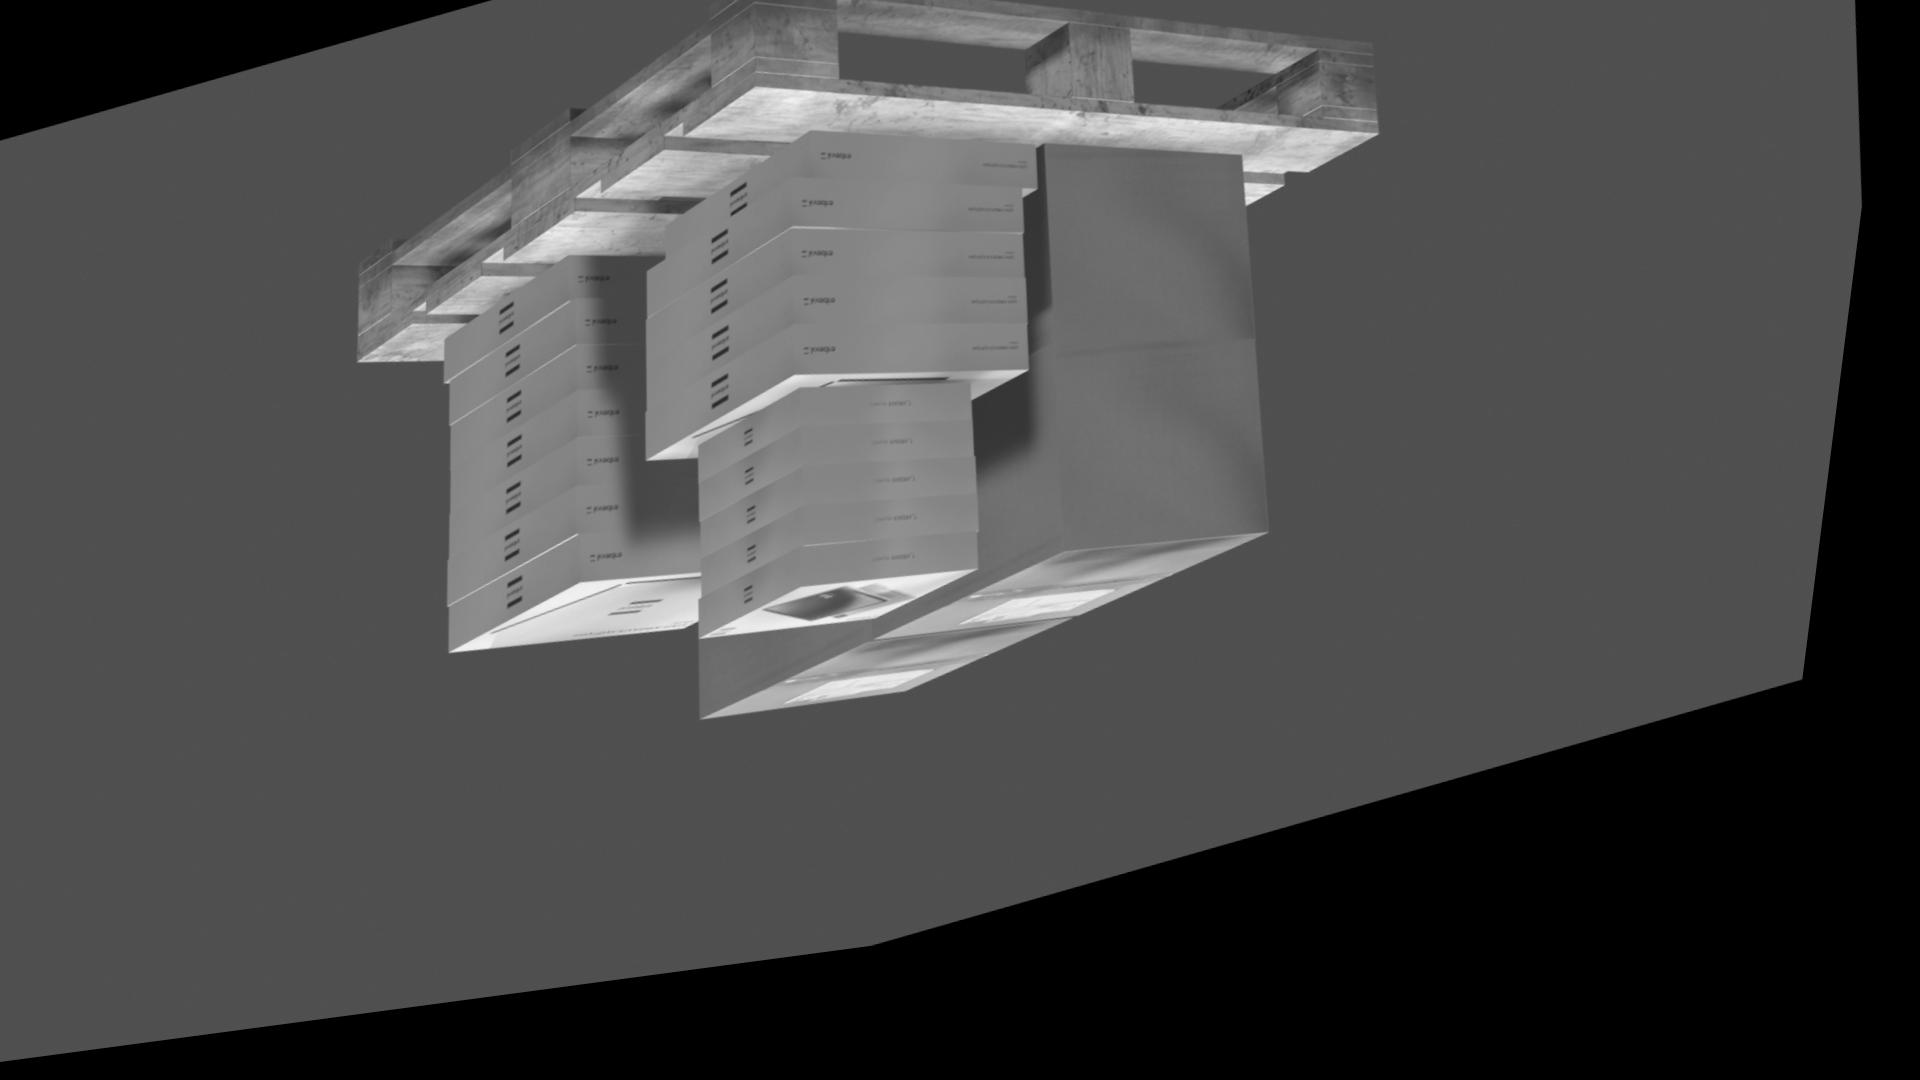group_box_left: (894, 376, 1287, 665), (1033, 173, 1269, 380), (717, 647, 893, 738)
group_box_top: (898, 571, 1286, 665), (723, 651, 1092, 741)
laptop_left: (657, 200, 1033, 336), (659, 348, 1042, 479), (658, 299, 1039, 429), (657, 252, 1035, 378), (674, 154, 1043, 278), (467, 542, 717, 666), (465, 454, 713, 574), (464, 500, 715, 618), (456, 273, 675, 396), (462, 314, 657, 438), (465, 405, 658, 526), (464, 363, 658, 483)
laptop_top: (663, 398, 1042, 479), (471, 593, 719, 666)
palet: (363, 0, 1389, 377)
tablet_left: (719, 560, 997, 658), (717, 487, 993, 579), (715, 448, 990, 541), (720, 525, 996, 616), (713, 413, 988, 501)
tablet_top: (721, 599, 996, 661)
